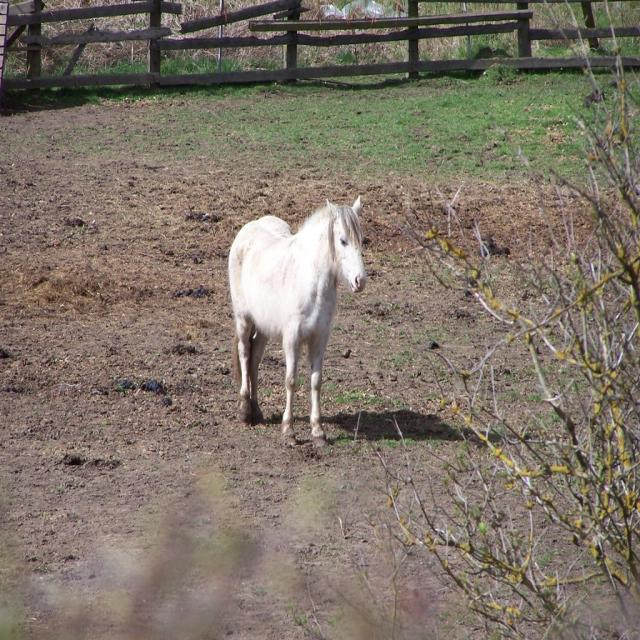Horse: (228, 194, 368, 456)
